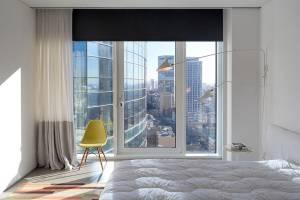window: (70, 38, 221, 155)
